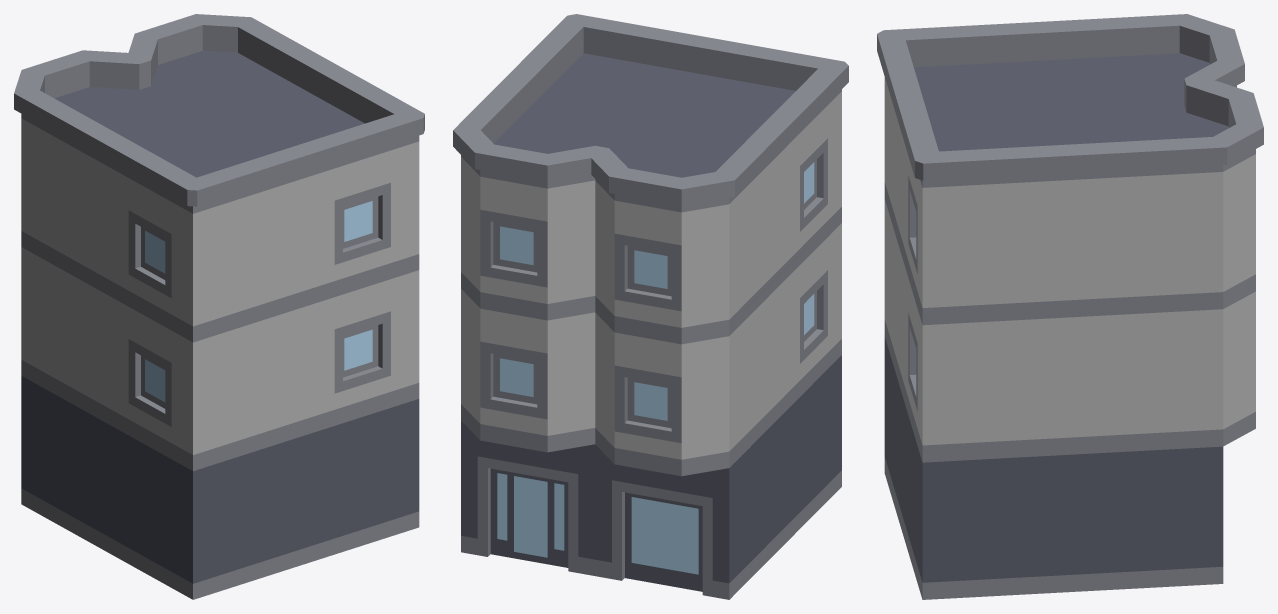
The model's file is input.fbx.
3 renders of one model, left to right at view 1: azimuth 30°, elevation 25°; view 2: azimuth 150°, elevation 25°; view 3: azimuth 270°, elevation 25°, orthographic. The views are drawn at different scales.
Visible parts, largest first — view 1: small_buildingA; view 2: small_buildingA; view 3: small_buildingA.
Part boxes in pixels (x1,y1,x2,y2): small_buildingA: (14, 14, 424, 599); small_buildingA: (453, 14, 848, 599); small_buildingA: (877, 14, 1263, 599).
Size of the model in its own units: 93.47 by 128 by 102.
